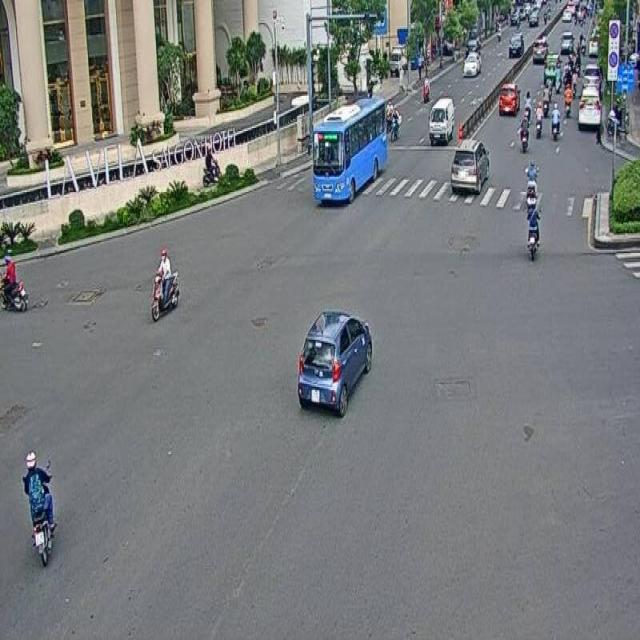bus: (312, 96, 386, 203)
car: (298, 312, 373, 418), (450, 138, 490, 194)
motorcycle: (22, 451, 54, 567), (150, 247, 180, 321), (0, 253, 28, 311), (526, 197, 540, 260)
